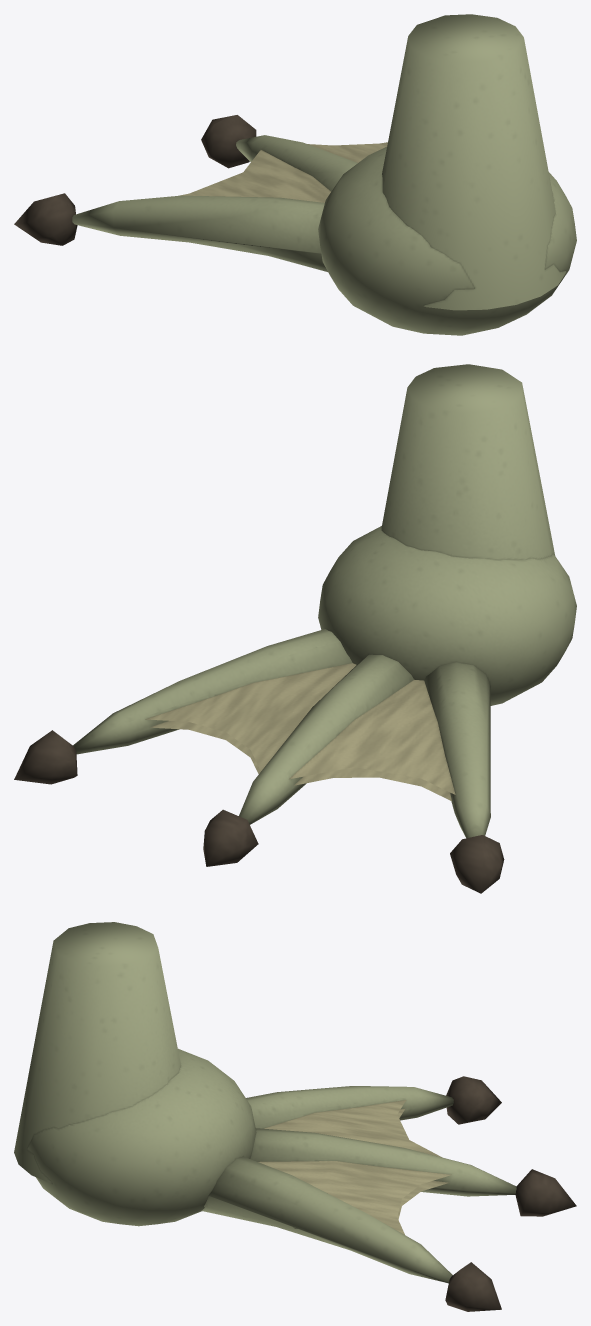
Rendered from cpart_foot_webbed.glb.
The picture shows the model from 3 angles, top to bottom: view 1: azimuth 30°, elevation 25°; view 2: azimuth 150°, elevation 25°; view 3: azimuth 270°, elevation 25°; orthographic projection. The views are drawn at different scales.
Parts seen in each view (by area): view 1: FootWebbed, Web, Nails; view 2: FootWebbed, Web, Nails; view 3: FootWebbed, Web, Nails.
Boxes of the visible parts, <box> form: FootWebbed: <box>72,14,576,335</box>; Web: <box>178,142,387,202</box>; Nails: <box>14,115,256,245</box>; FootWebbed: <box>73,364,576,838</box>; Web: <box>145,663,455,801</box>; Nails: <box>14,730,504,893</box>; FootWebbed: <box>14,922,516,1283</box>; Web: <box>258,1100,451,1234</box>; Nails: <box>445,1076,576,1311</box>.
Bounding box in the file's own units: 0.1503 × 0.09 × 0.1714.
3 materials, 3 textured.
